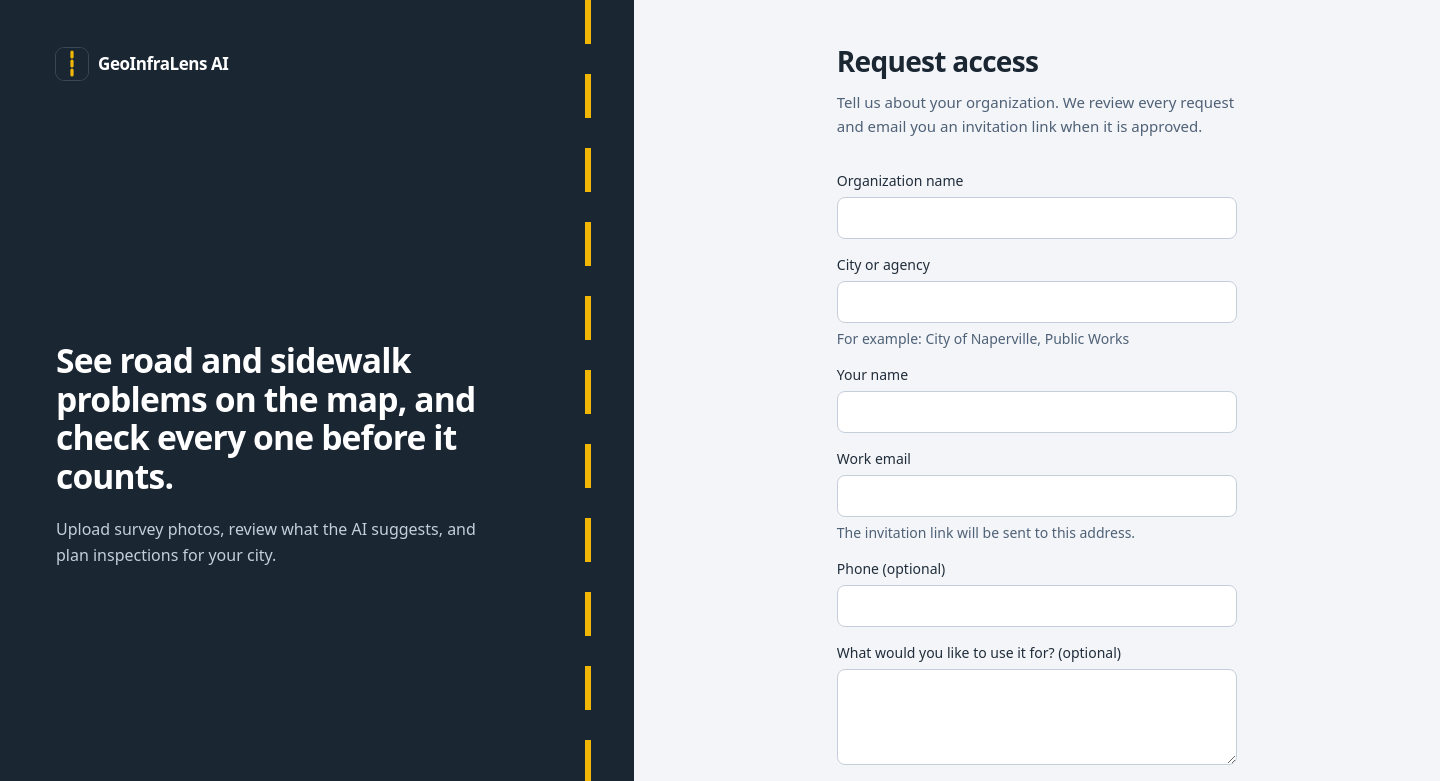
Test case: Request access (CR-004) › shows the server message when a request is already waiting
This screenshot has width=1440, height=781.
Type "Naperville Public Works" into the field labelled "Organization name" at (1037, 218), box [837,197,1237,239]
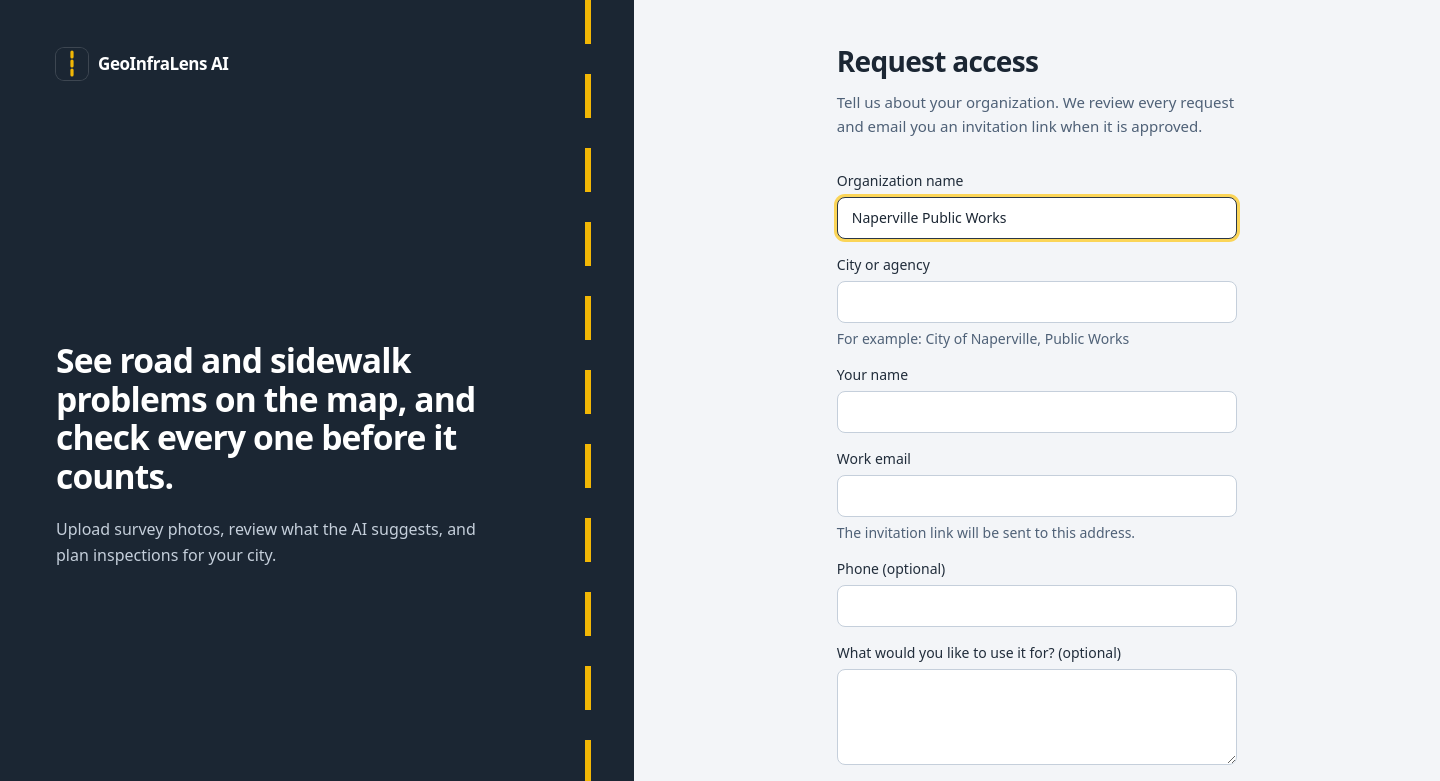
Type "City of Naperville" into the field labelled "City or agency" at (1037, 302), box [837,281,1237,323]
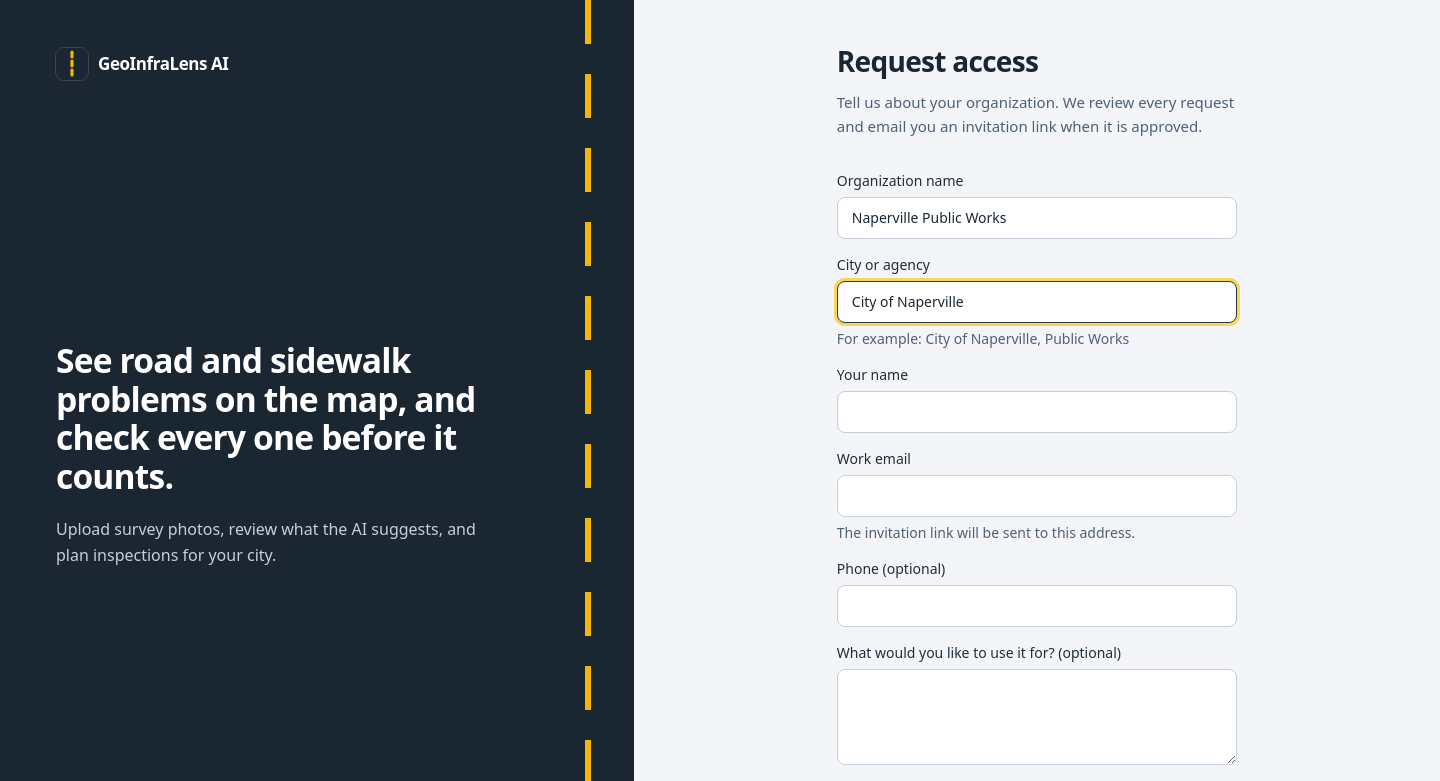
Type "Pat Rivera" into the field labelled "Your name" at (1037, 412), box [837,391,1237,433]
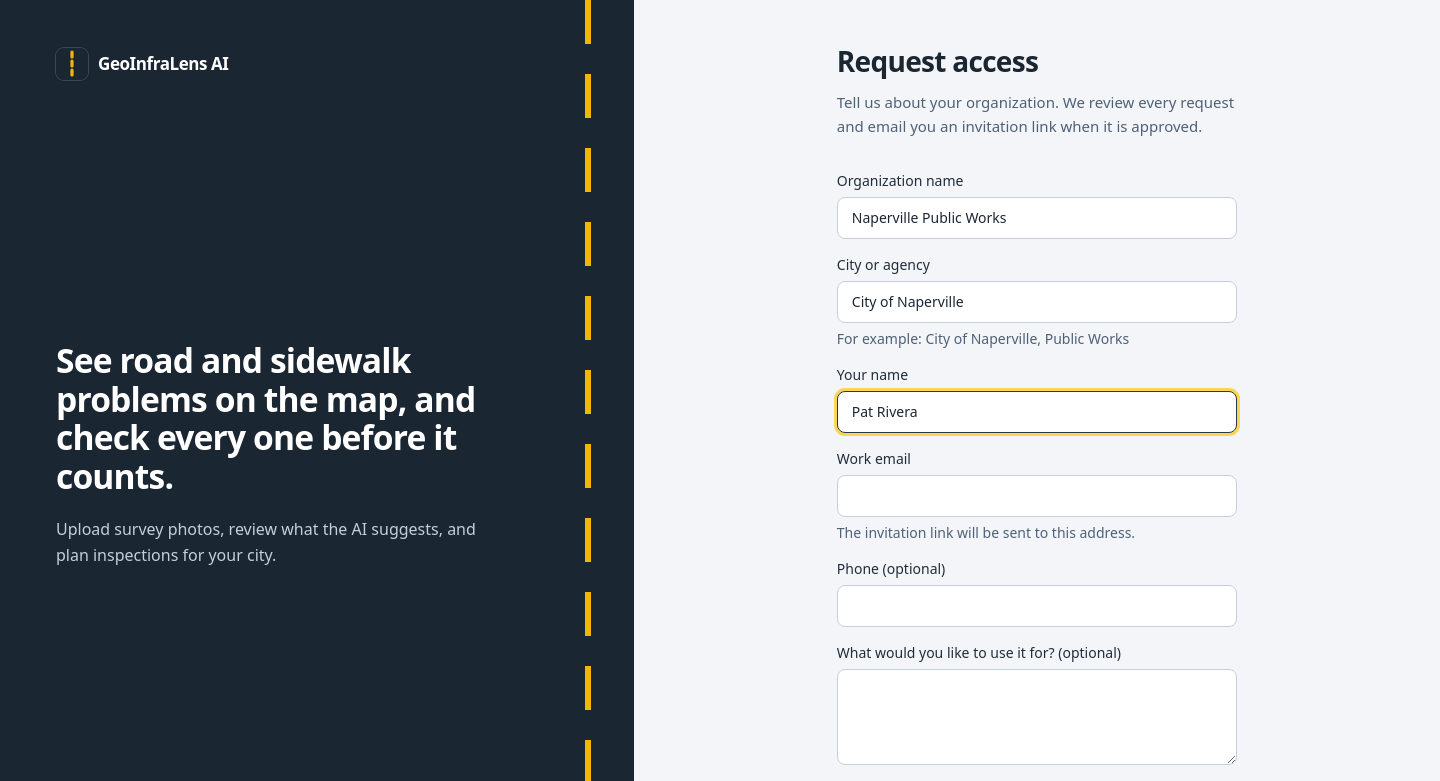
Type "pat@naperville.test" into the field labelled "Work email" at (1037, 496), box [837,475,1237,517]
(page scrolled)
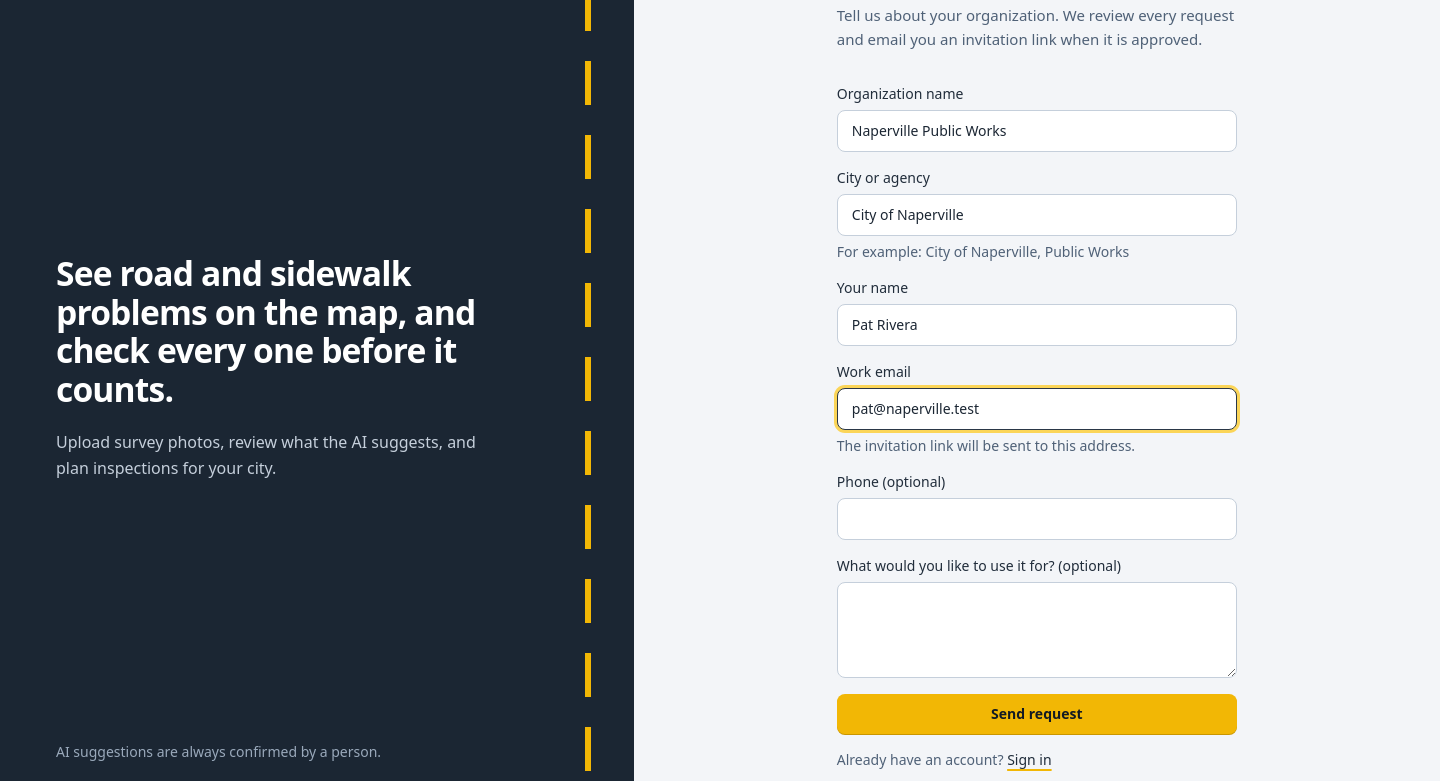
Click the button "Send request" at (1037, 714), box [837,694,1237,734]
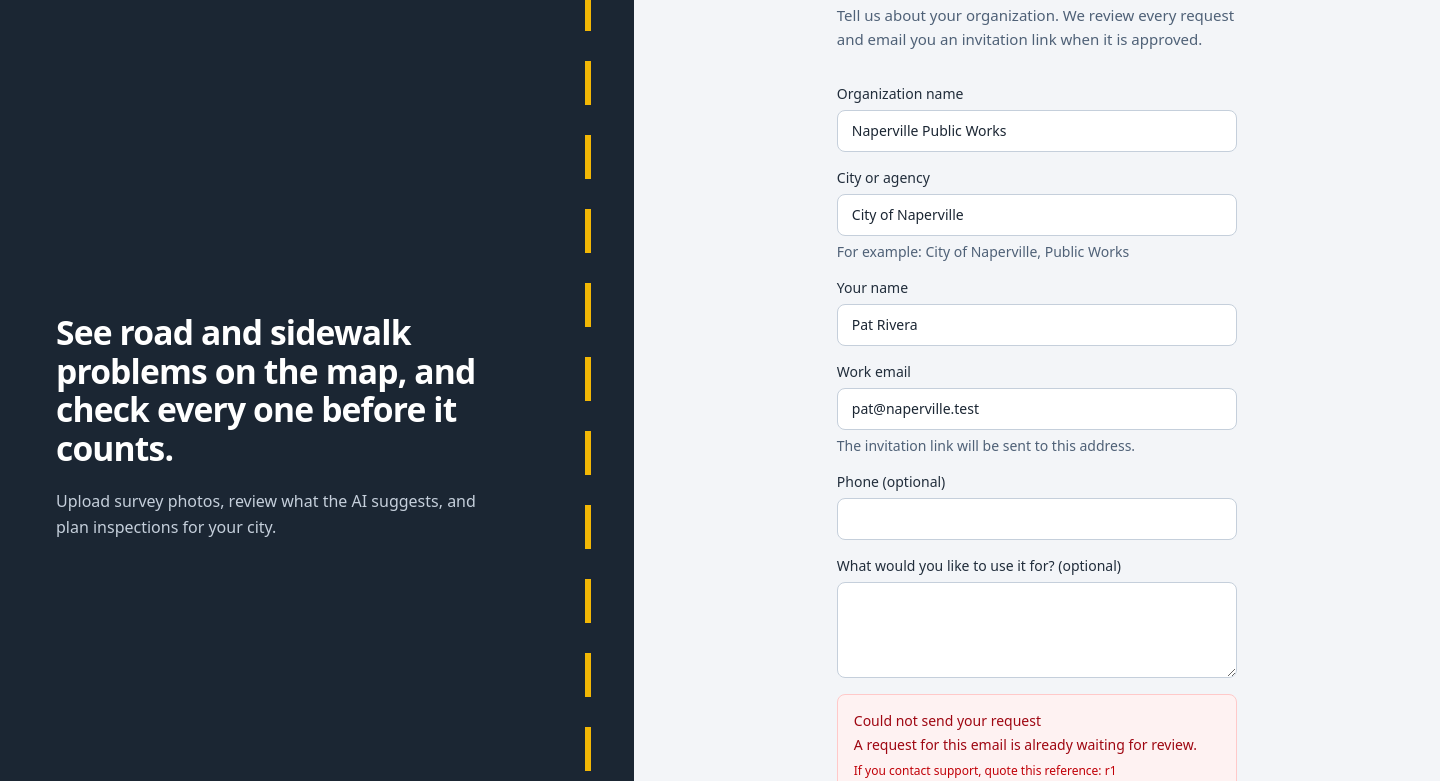
Expected: the message shows "already waiting for review", [854,735,1197,754]
